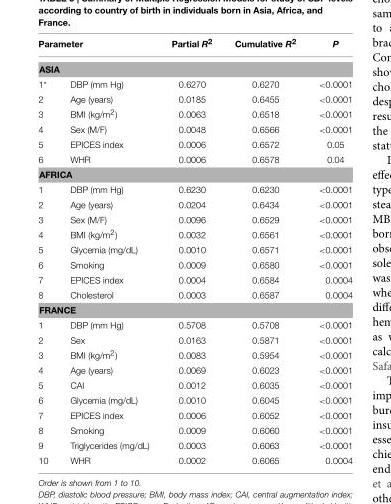table: (37, 37, 351, 465)
table column: (58, 37, 159, 465), (222, 37, 306, 465), (159, 37, 222, 465), (306, 37, 351, 465), (37, 37, 58, 465)
table column header: (37, 37, 351, 91)
table projected row header: (37, 166, 351, 182), (37, 302, 351, 317)
table row: (37, 56, 351, 76), (37, 37, 351, 56), (37, 105, 351, 121), (37, 166, 351, 182), (37, 226, 351, 242), (37, 346, 351, 362), (37, 437, 351, 453), (37, 76, 351, 91), (37, 121, 351, 136), (37, 136, 351, 151), (37, 151, 351, 166), (37, 182, 351, 197), (37, 197, 351, 212), (37, 242, 351, 257), (37, 257, 351, 272), (37, 272, 351, 287), (37, 287, 351, 302), (37, 302, 351, 317), (37, 317, 351, 332), (37, 362, 351, 377), (37, 377, 351, 392), (37, 392, 351, 407), (37, 407, 351, 422), (37, 422, 351, 437), (37, 91, 351, 105), (37, 212, 351, 226), (37, 332, 351, 346), (37, 453, 351, 465)
table spanning cell: (37, 56, 351, 76), (37, 37, 159, 56)
